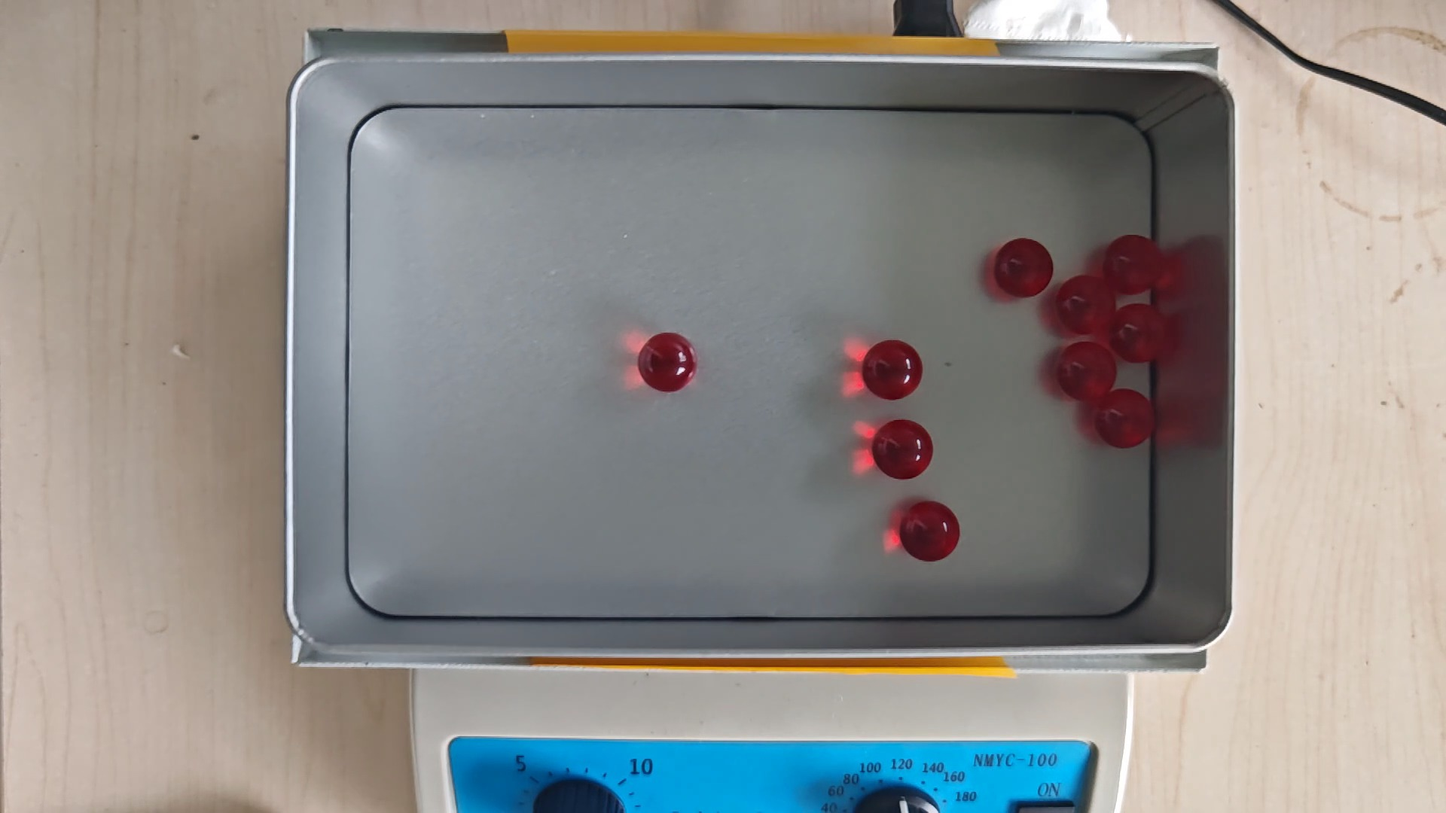ball: (900, 500, 961, 563), (873, 418, 934, 480), (1110, 304, 1173, 364), (1055, 340, 1116, 400), (863, 339, 923, 400), (639, 332, 698, 393), (1096, 388, 1154, 450), (1104, 235, 1162, 295), (1057, 276, 1115, 336), (995, 237, 1052, 297)
container: (347, 107, 1153, 618)
